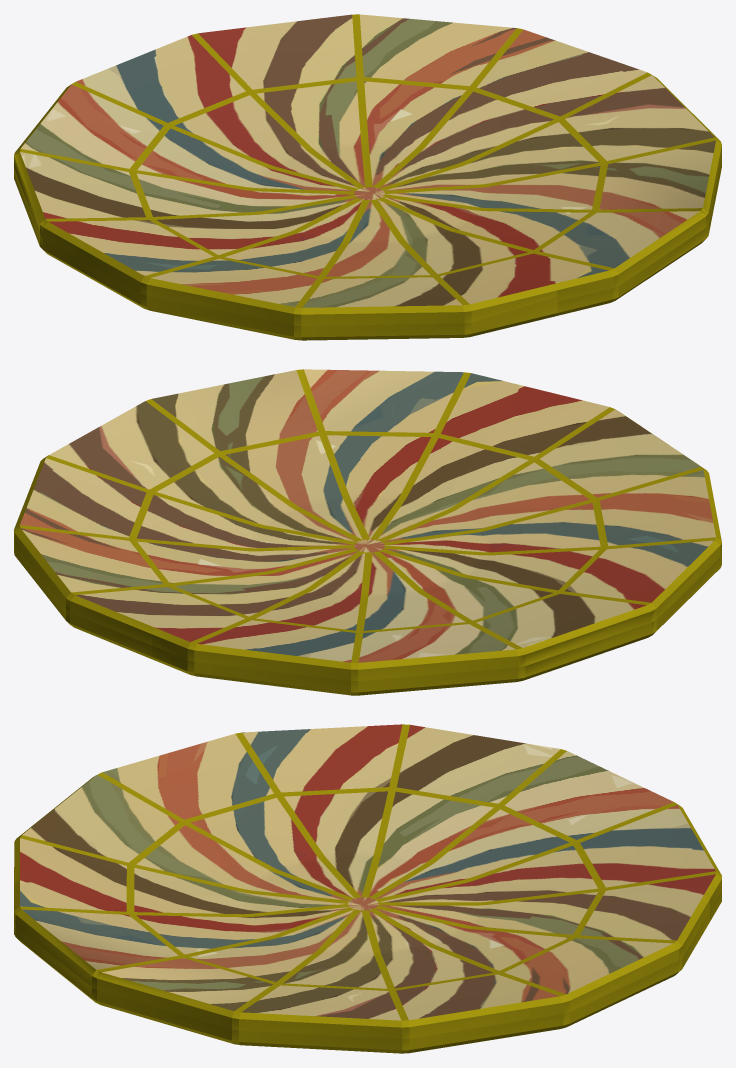
The model's file is plate.fbx.
3 views of the same model, one above another, from view 1: azimuth 30°, elevation 25°; view 2: azimuth 150°, elevation 25°; view 3: azimuth 270°, elevation 25° (orthographic).
Visible parts, largest first — view 1: pCylinder1.001, pCylinder1.002; view 2: pCylinder1.001, pCylinder1.002; view 3: pCylinder1.002, pCylinder1.001.
Part boxes in pixels (left/top/right/bottom): pCylinder1.001: left=244, top=14, right=721, bottom=316; pCylinder1.002: left=14, top=27, right=557, bottom=340; pCylinder1.001: left=14, top=369, right=526, bottom=660; pCylinder1.002: left=152, top=387, right=721, bottom=695; pCylinder1.002: left=14, top=724, right=721, bottom=921; pCylinder1.001: left=14, top=879, right=709, bottom=1053.
Size of the model in its own units: 3.97 by 3.94 by 0.3925.
